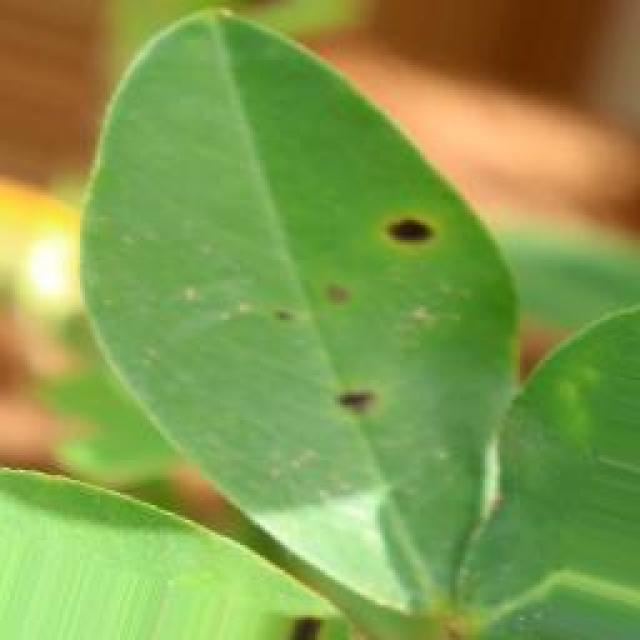Sigatoka: (297, 366, 403, 452), (363, 185, 456, 275), (278, 241, 349, 344)
